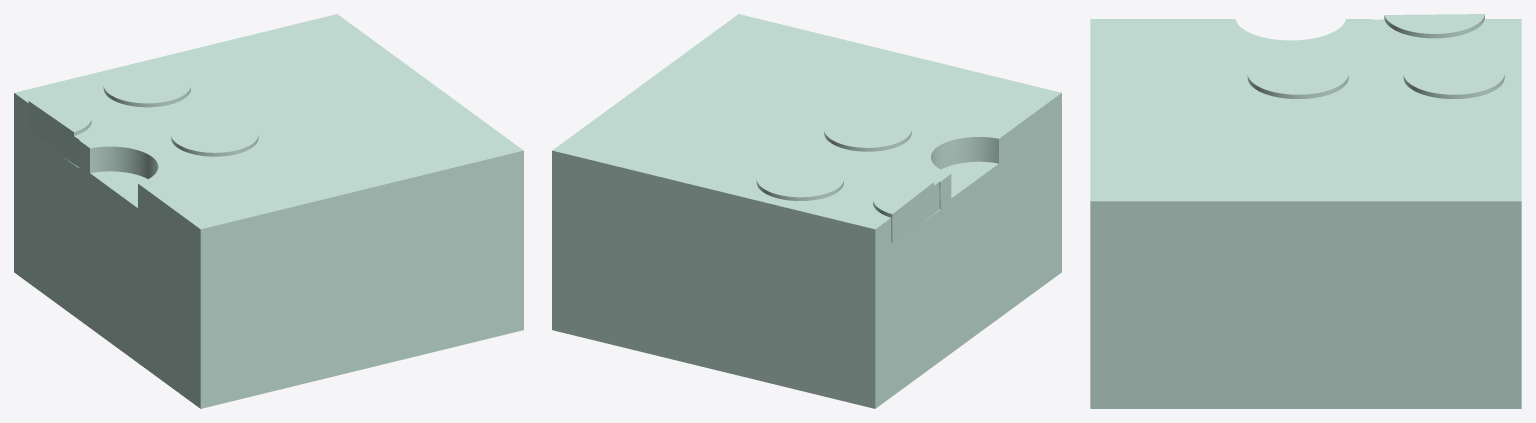
3 views of the same model, side by side, from view 1: azimuth 30°, elevation 25°; view 2: azimuth 150°, elevation 25°; view 3: azimuth 270°, elevation 25° (orthographic). The views are drawn at different scales.
Visible parts, largest first — view 1: Renderer Node; view 2: Renderer Node; view 3: Renderer Node.
Boxes of the visible parts, bbox=[...] form: Renderer Node: bbox=[14, 14, 523, 408]; Renderer Node: bbox=[552, 14, 1061, 408]; Renderer Node: bbox=[1090, 14, 1521, 408].
Bounding box in the file's own units: 1.39 × 0.75 × 1.38.
